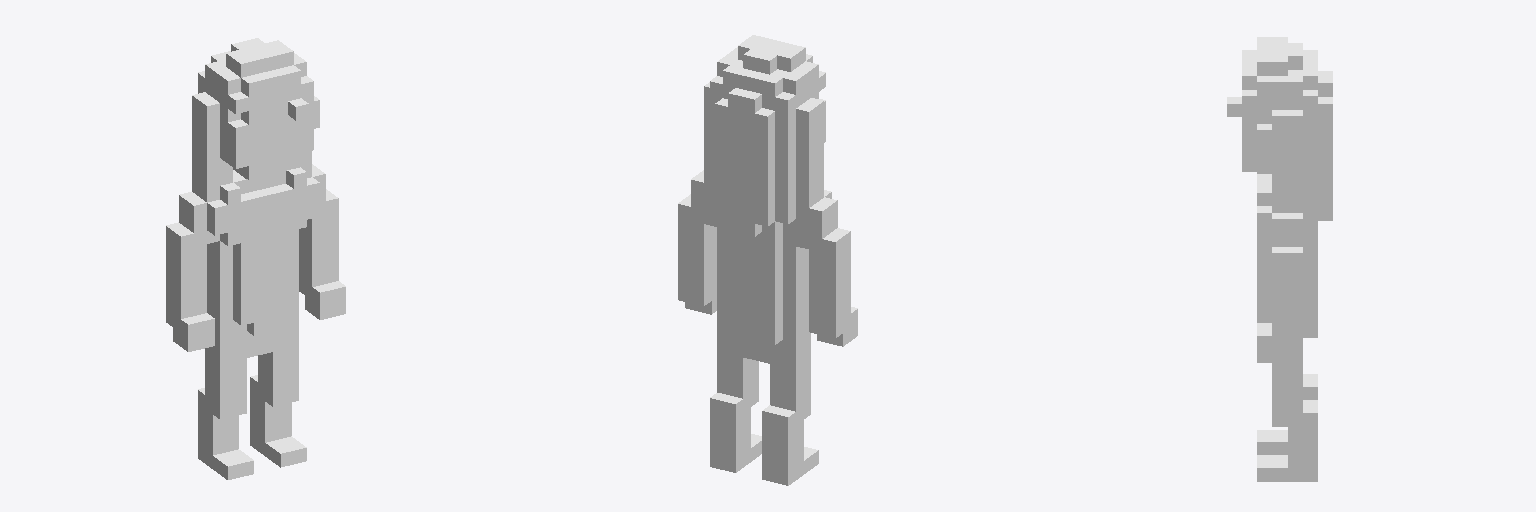
The model's file is CustomerModels14.obj.
3 renders of one model, left to right at view 1: azimuth 30°, elevation 25°; view 2: azimuth 150°, elevation 25°; view 3: azimuth 270°, elevation 25°, orthographic.
Visible parts, largest first — view 1: object 1; view 2: object 1; view 3: object 1.
Boxes of the visible parts, <box> form: object 1: <box>166,38,345,479</box>; object 1: <box>678,35,857,485</box>; object 1: <box>1227,37,1332,481</box>.
Size of the model in its own units: 1.2 by 3 by 0.7.